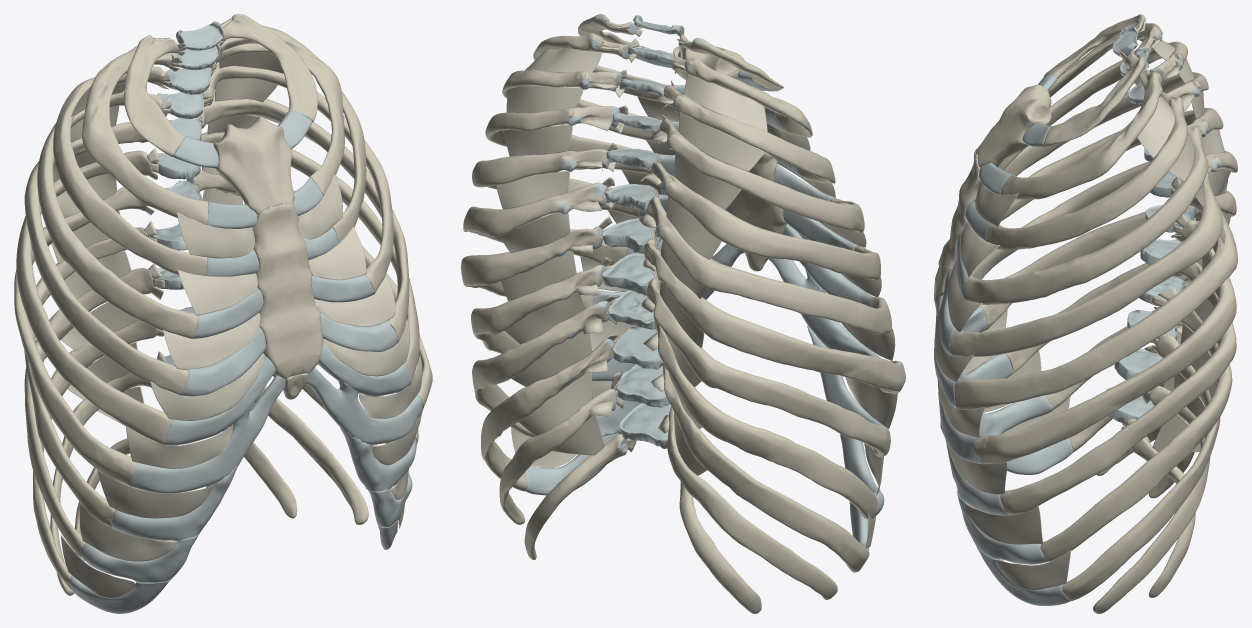
File: detail-skeletal-thorax.glb
The picture shows the model from 3 angles, left to right: view 1: azimuth 30°, elevation 25°; view 2: azimuth 150°, elevation 25°; view 3: azimuth 270°, elevation 25°; orthographic projection. The views are drawn at different scales.
Parts seen in each view (by area): view 1: za-99bbd1fad9bf57a1, za-be120fd8fdab2899, za-719a0a9f5096a2c2, za-7e86f39de90ba83f, za-07750711de28802c, za-147bb1e888a9f11f, za-cf02c4ba2331cd56, za-7c364a97d557e415, za-231268f98394bc18, za-3db84755bd91a2bb, za-c7dda0a73f51ff4d, za-1e5c9d5678d444db (+40 smaller); view 2: za-3d9ccdd91ac3b7d7, za-231268f98394bc18, za-c7dda0a73f51ff4d, za-7e86f39de90ba83f, za-10e781b42ca15c9c, za-6f76b6bcc3c8704b, za-07750711de28802c, za-4a79b7c42a45c3c7, za-de22fedf8db39560, za-147bb1e888a9f11f, za-99bbd1fad9bf57a1, za-e47857b7da871dc7 (+39 smaller); view 3: za-be120fd8fdab2899, za-2aa5870d308142f9, za-60e1d0917fd5f7bf, za-22be6cf4870e79e7, za-f6891ad7d6ecbb94, za-be538ded659c0e75, za-ab005e833046c851, za-24f1569dfcb072c8, za-e47857b7da871dc7, za-19f705a99deeaa73, za-3d9ccdd91ac3b7d7, za-4a8d5c3e136dd595 (+37 smaller).
Boxes of the visible parts, x1=… form: za-99bbd1fad9bf57a1: x1=60, y1=212, x2=264, y2=598; za-be120fd8fdab2899: x1=298, y1=174, x2=422, y2=528; za-719a0a9f5096a2c2: x1=252, y1=202, x2=323, y2=379; za-7e86f39de90ba83f: x1=16, y1=150, x2=172, y2=444; za-07750711de28802c: x1=24, y1=122, x2=188, y2=395; za-147bb1e888a9f11f: x1=37, y1=90, x2=198, y2=338; za-cf02c4ba2331cd56: x1=53, y1=66, x2=207, y2=275; za-7c364a97d557e415: x1=82, y1=45, x2=208, y2=224; za-231268f98394bc18: x1=52, y1=73, x2=144, y2=425; za-3db84755bd91a2bb: x1=213, y1=116, x2=294, y2=214; za-c7dda0a73f51ff4d: x1=14, y1=187, x2=146, y2=486; za-1e5c9d5678d444db: x1=129, y1=375, x2=285, y2=493; za-3d9ccdd91ac3b7d7: x1=496, y1=48, x2=604, y2=455; za-231268f98394bc18: x1=659, y1=74, x2=767, y2=475; za-c7dda0a73f51ff4d: x1=644, y1=239, x2=905, y2=393; za-7e86f39de90ba83f: x1=646, y1=196, x2=891, y2=334; za-10e781b42ca15c9c: x1=647, y1=278, x2=890, y2=457; za-6f76b6bcc3c8704b: x1=654, y1=320, x2=877, y2=519; za-07750711de28802c: x1=650, y1=162, x2=880, y2=280; za-4a79b7c42a45c3c7: x1=663, y1=362, x2=868, y2=571; za-de22fedf8db39560: x1=667, y1=406, x2=837, y2=599; za-147bb1e888a9f11f: x1=660, y1=119, x2=864, y2=232; za-99bbd1fad9bf57a1: x1=767, y1=123, x2=897, y2=548; za-e47857b7da871dc7: x1=481, y1=339, x2=614, y2=491; za-be120fd8fdab2899: x1=934, y1=181, x2=1071, y2=590; za-2aa5870d308142f9: x1=954, y1=197, x2=1237, y2=409; za-60e1d0917fd5f7bf: x1=974, y1=220, x2=1236, y2=463; za-22be6cf4870e79e7: x1=949, y1=171, x2=1223, y2=356; za-f6891ad7d6ecbb94: x1=963, y1=127, x2=1208, y2=304; za-be538ded659c0e75: x1=1000, y1=262, x2=1236, y2=515; za-ab005e833046c851: x1=1040, y1=295, x2=1232, y2=561; za-24f1569dfcb072c8: x1=986, y1=92, x2=1187, y2=251; za-e47857b7da871dc7: x1=1062, y1=334, x2=1220, y2=601; za-19f705a99deeaa73: x1=1000, y1=70, x2=1162, y2=199; za-3d9ccdd91ac3b7d7: x1=1137, y1=96, x2=1225, y2=452; za-4a8d5c3e136dd595: x1=1093, y1=385, x2=1210, y2=613.
Size of the model in its own units: 0.2833 by 0.3919 by 0.2102.
